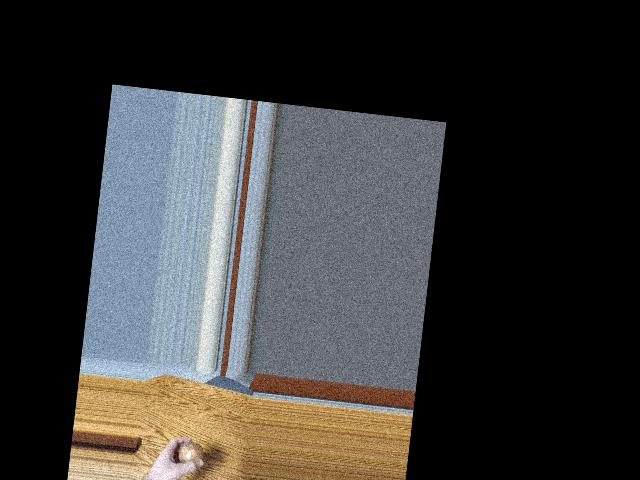onion: (177, 439, 204, 469)
